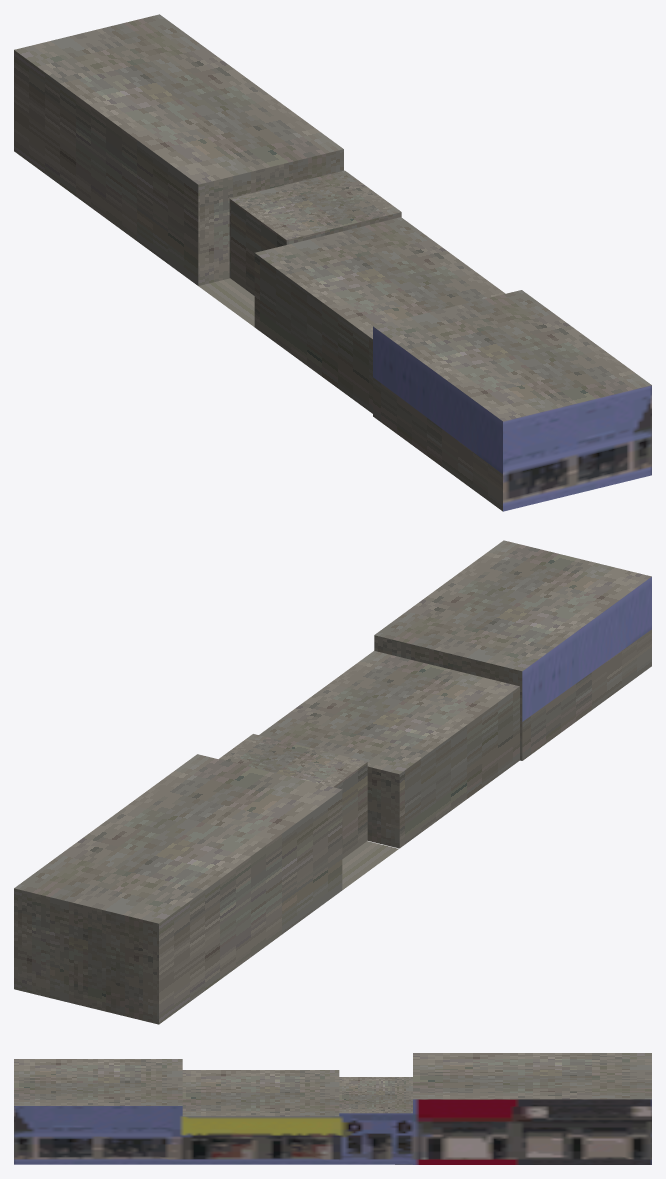
The model's file is lodblok05_lawn.obj.
The picture shows the model from 3 angles, top to bottom: view 1: azimuth 30°, elevation 25°; view 2: azimuth 150°, elevation 25°; view 3: azimuth 270°, elevation 25°; orthographic projection. The views are drawn at different scales.
Parts seen in each view (by area): view 1: LODBlok05_LAwN; view 2: LODBlok05_LAwN; view 3: LODBlok05_LAwN.
Part boxes in pixels (box(x1,y1,x2,y2)): LODBlok05_LAwN: box(14, 14, 651, 511); LODBlok05_LAwN: box(14, 540, 651, 1024); LODBlok05_LAwN: box(14, 1053, 651, 1164).
Bounding box in the file's own units: 9.69 × 6.27 × 55.14.
Materials: 2 (2 with a texture image).
